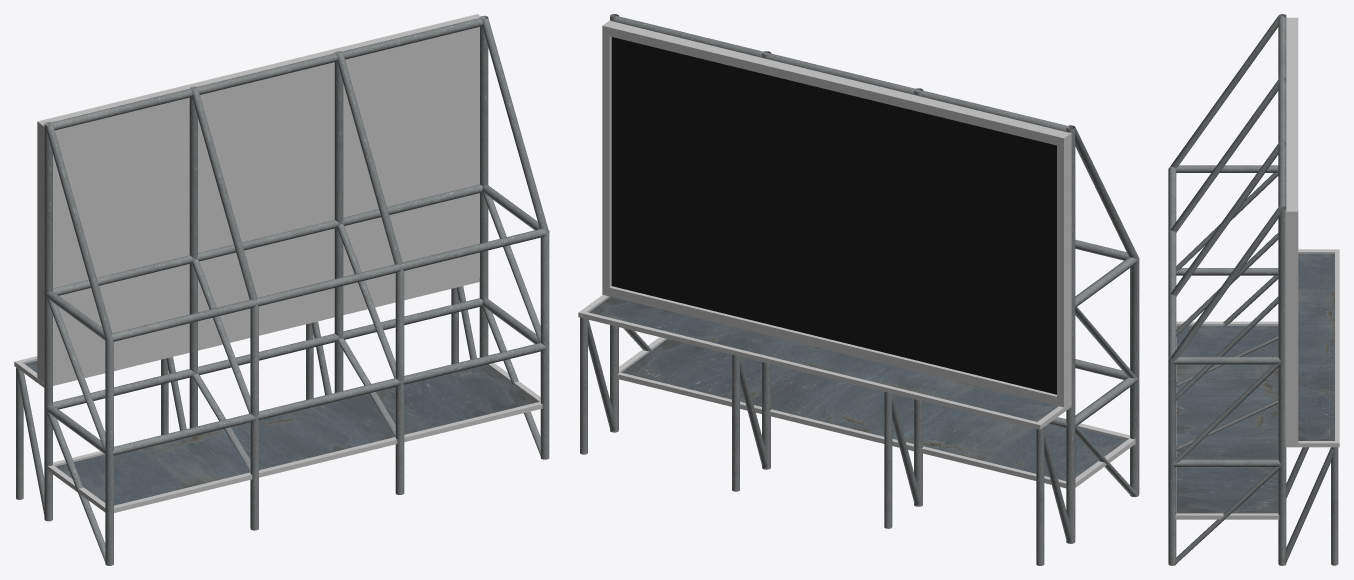
File: Big-Screen-05.fbx
The picture shows the model from 3 angles, left to right: view 1: azimuth 30°, elevation 25°; view 2: azimuth 150°, elevation 25°; view 3: azimuth 270°, elevation 25°; orthographic projection. The views are drawn at different scales.
Visible parts, largest first — view 1: Metal_Extructure; view 2: Screen, Metal_Extructure; view 3: Metal_Extructure.
Part boxes in pixels (box(x1,y1,x2,y2)): Metal_Extructure: box(14, 14, 549, 565); Screen: box(611, 37, 1056, 394); Metal_Extructure: box(578, 14, 1139, 565); Metal_Extructure: box(1168, 14, 1339, 565).
Size of the model in its own units: 1221 by 1043 by 453.
